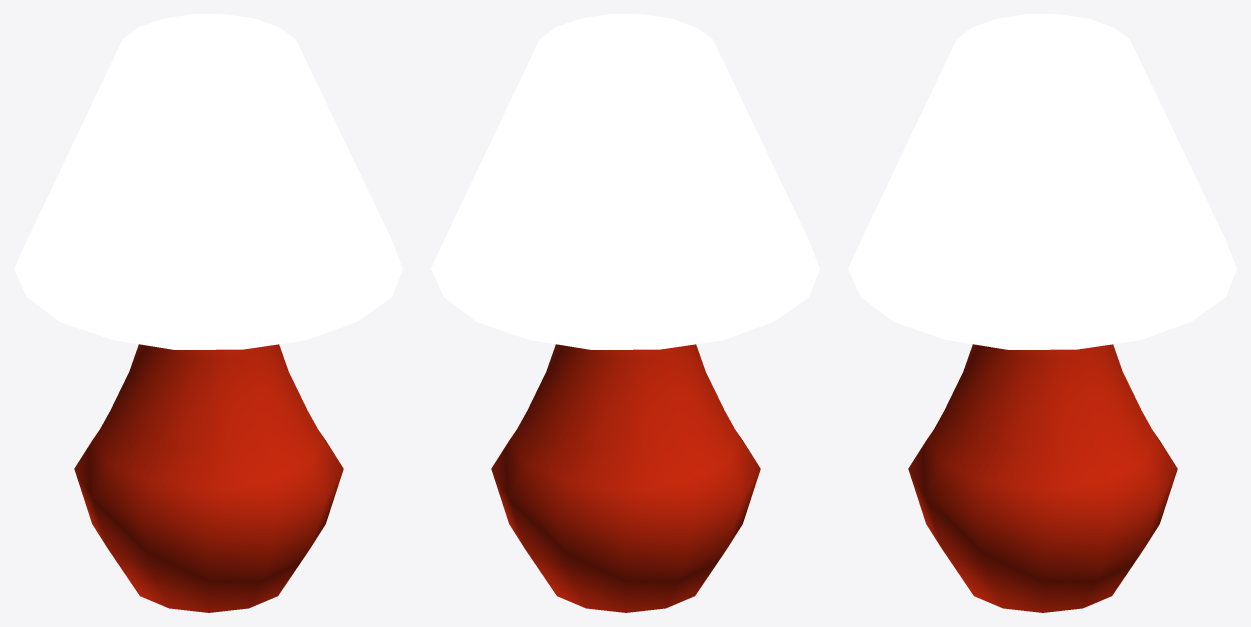
Rendered from lamp.fbx.
3 views of the same model, side by side, from view 1: azimuth 30°, elevation 25°; view 2: azimuth 150°, elevation 25°; view 3: azimuth 270°, elevation 25° (orthographic).
Visible parts, largest first — view 1: Circle.008; view 2: Circle.008; view 3: Circle.008.
Part boxes in pixels (x1,y1,x2,y2): Circle.008: [14, 14, 402, 612]; Circle.008: [431, 14, 819, 612]; Circle.008: [848, 14, 1236, 612].
Size of the model in its own units: 11 by 16.66 by 11.14.
